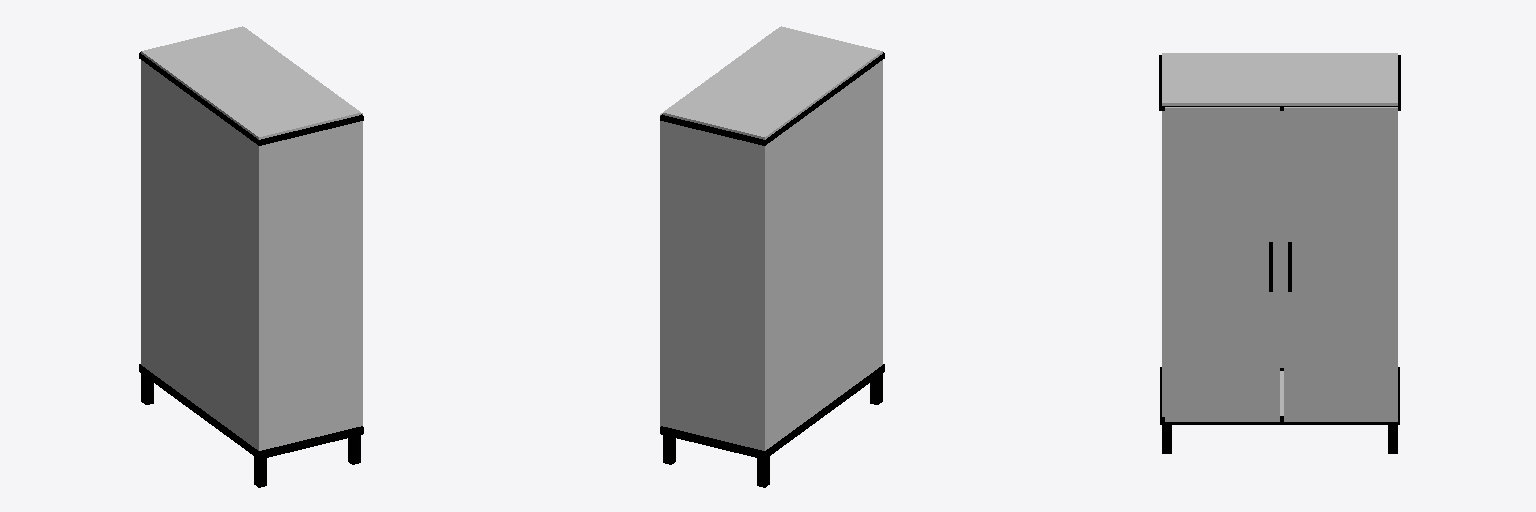
The model's file is szafa.obj.
The picture shows the model from 3 angles: view 1: azimuth 30°, elevation 25°; view 2: azimuth 150°, elevation 25°; view 3: azimuth 270°, elevation 25°; orthographic projection.
Parts seen in each view (by area): view 1: Kostka, Kostka.003, Kostka.002, Kostka.004; view 2: Kostka, Kostka.003, Kostka.004, Kostka.002; view 3: Kostka.004, Kostka, Kostka.003, Kostka.002.
Part boxes in pixels (left/top/right/bottom): Kostka: left=141, top=26, right=360, bottom=450; Kostka.003: left=139, top=52, right=363, bottom=459; Kostka.002: left=141, top=374, right=360, bottom=487; Kostka.004: left=246, top=28, right=362, bottom=425; Kostka: left=663, top=26, right=882, bottom=450; Kostka.003: left=660, top=52, right=884, bottom=459; Kostka.004: left=660, top=31, right=773, bottom=426; Kostka.002: left=663, top=374, right=882, bottom=487; Kostka.004: left=1165, top=107, right=1397, bottom=421; Kostka: left=1162, top=53, right=1397, bottom=416; Kostka.003: left=1159, top=55, right=1400, bottom=424; Kostka.002: left=1162, top=425, right=1397, bottom=453.
Size of the model in its own units: 2.24 by 6.57 by 4.1.